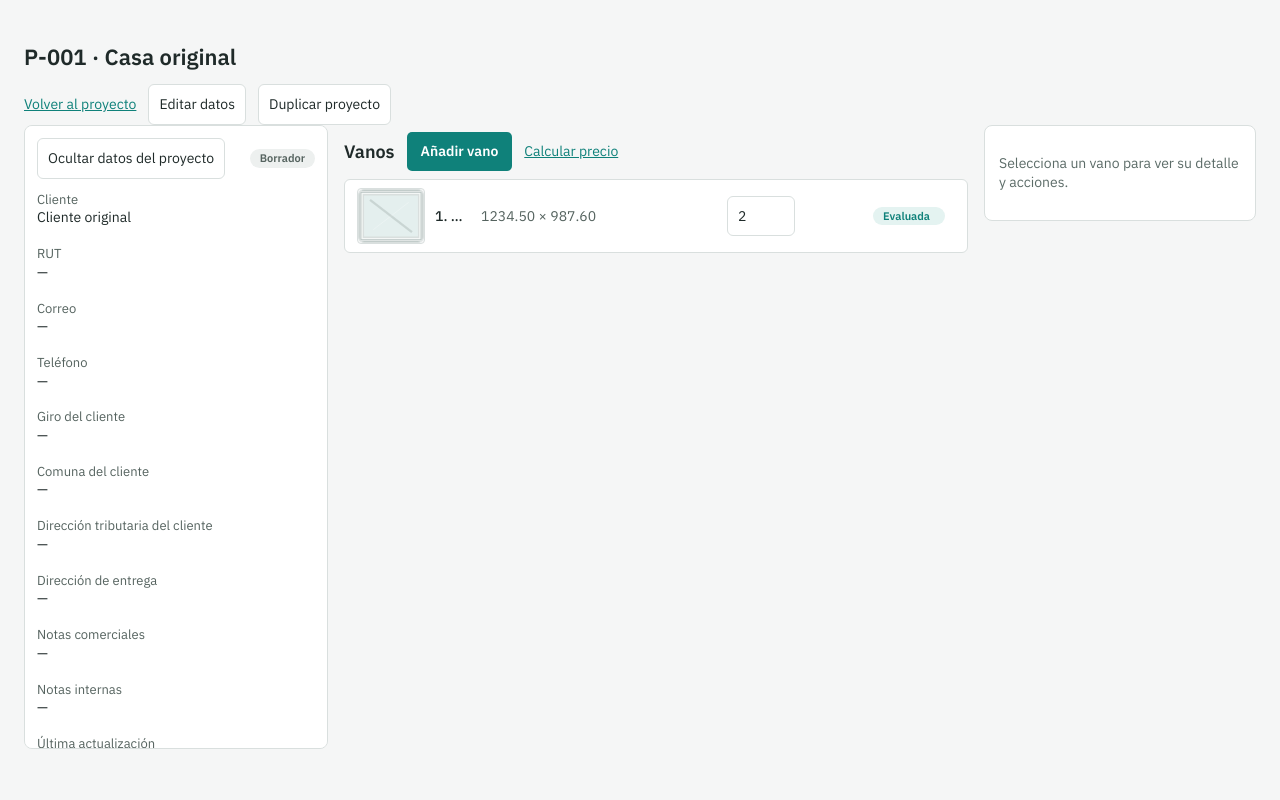
Test: deletes using the exact position timestamp and renders the refreshed project
Step 1. Click the text "1. Dormitorio principal" → point(453, 216), box [435,206,471,225]
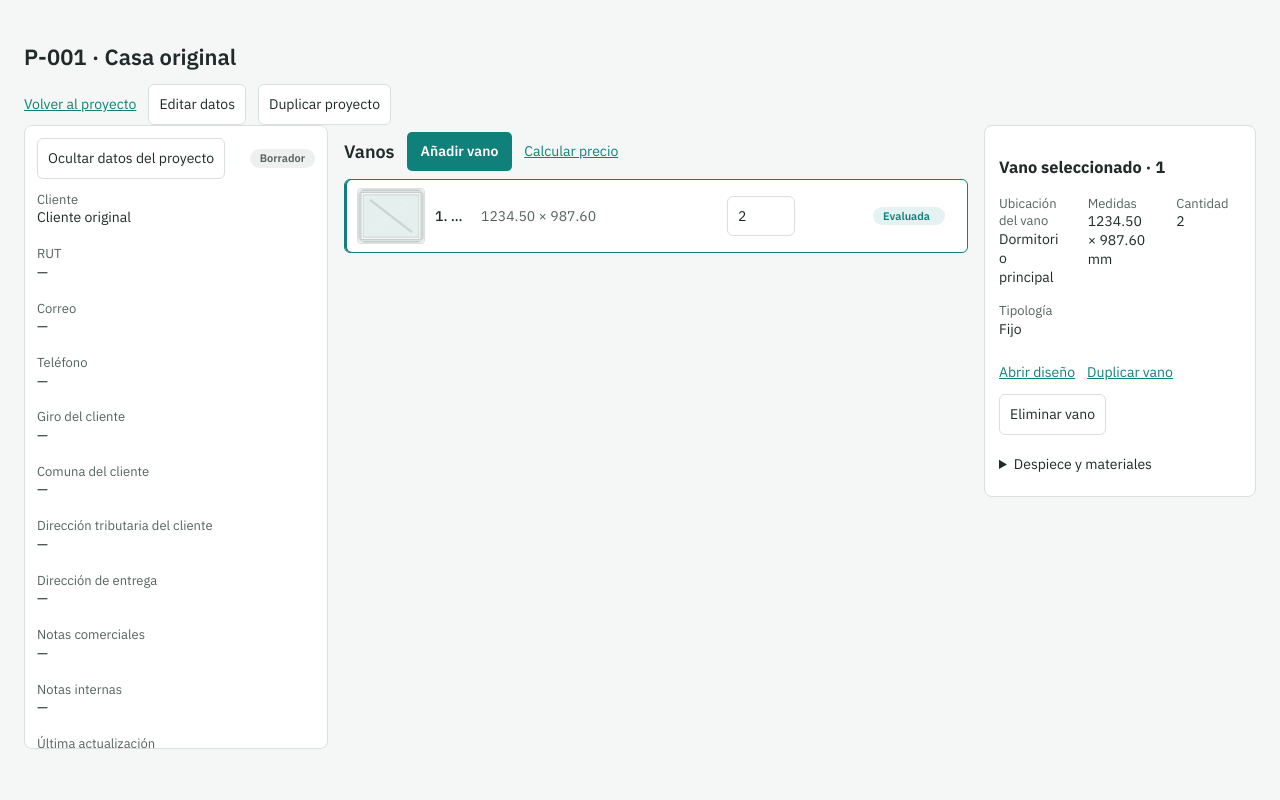
Step 2. Click the button "Eliminar vano" → point(1053, 414), box [999,394,1106,435]
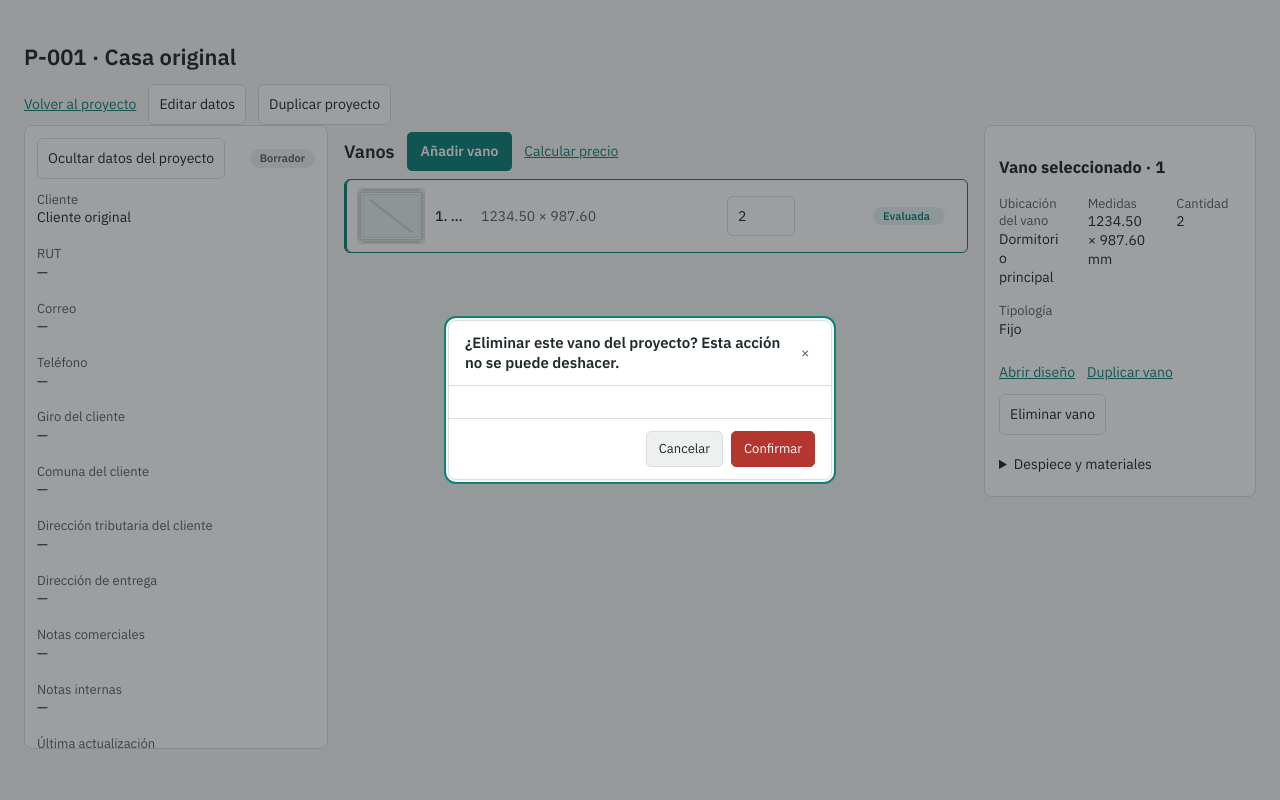
Step 3. Click the button "Confirmar" → point(773, 449), box [731,432,815,467]
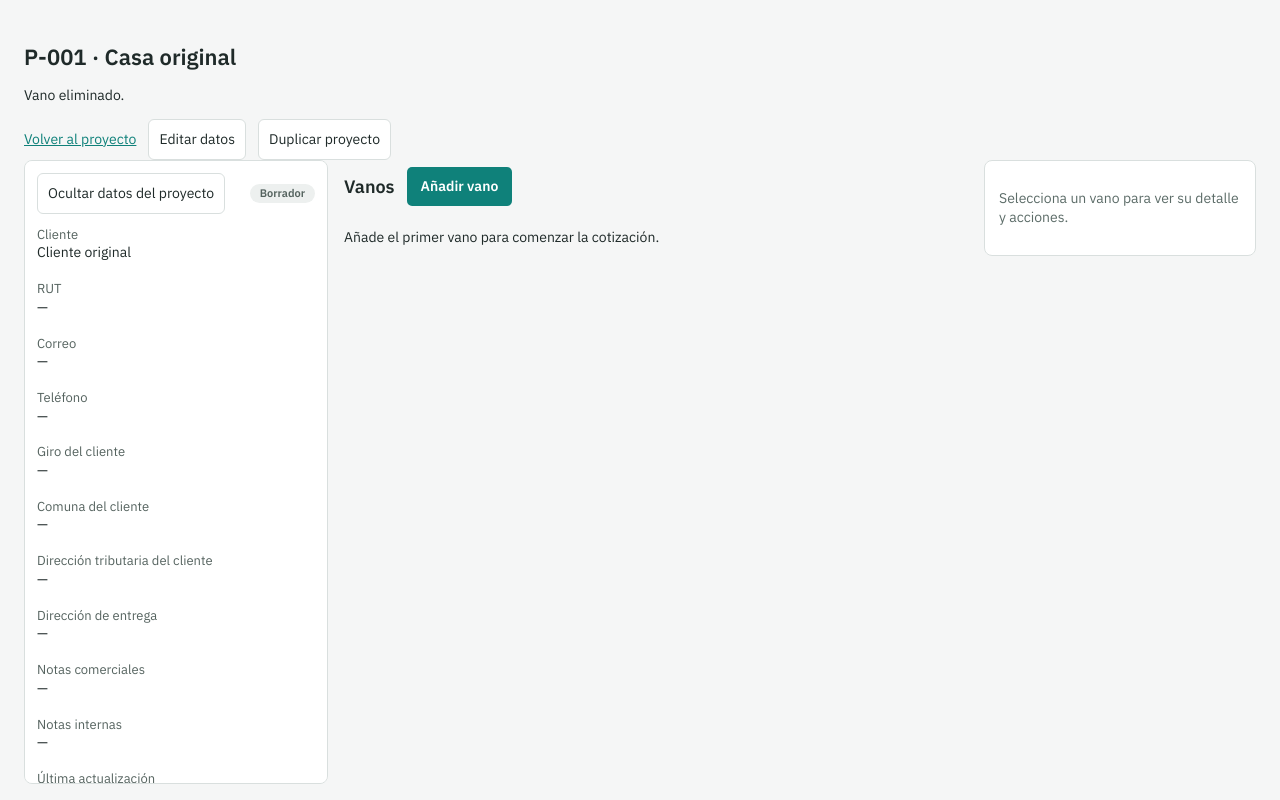
Expected: the dialog is gone
Expected: the text "Añade el primer vano para comenzar la cotización." is shown, [344,228,659,246]
Expected: the text "1. Dormitorio principal" is gone
